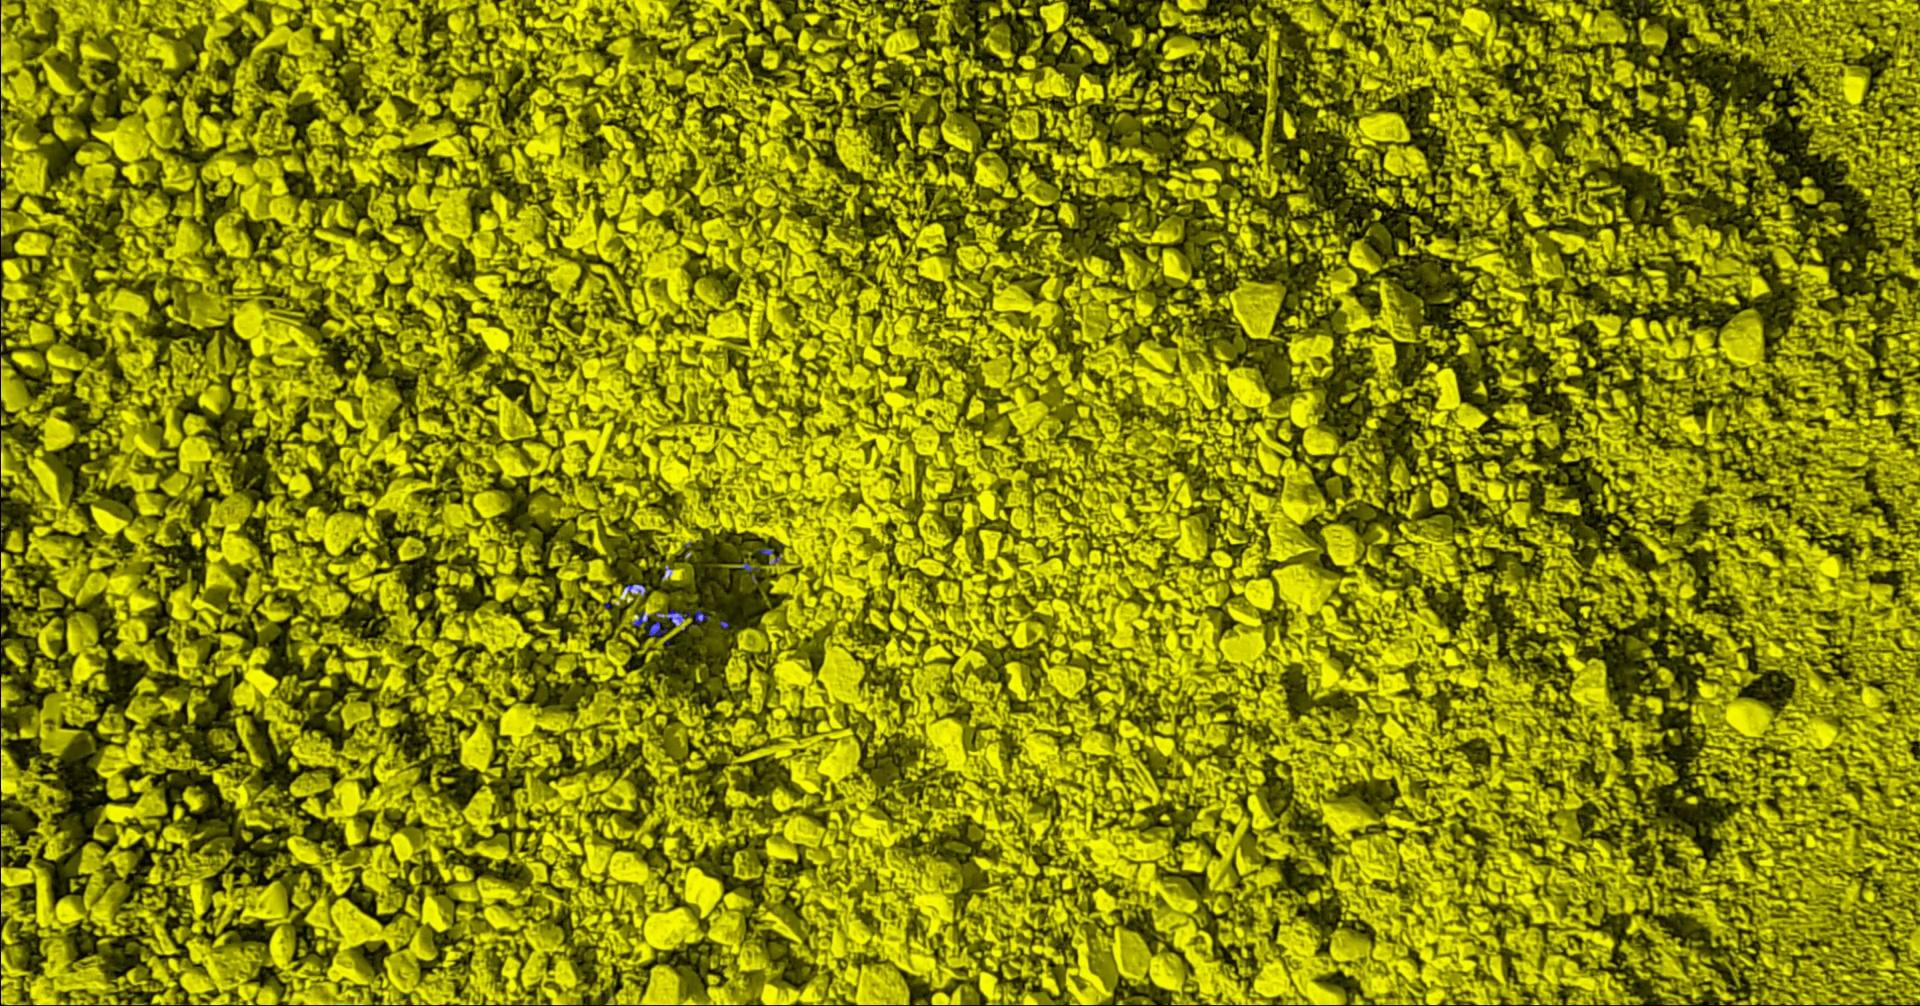ant: (632, 608, 709, 636), (739, 561, 759, 580)
